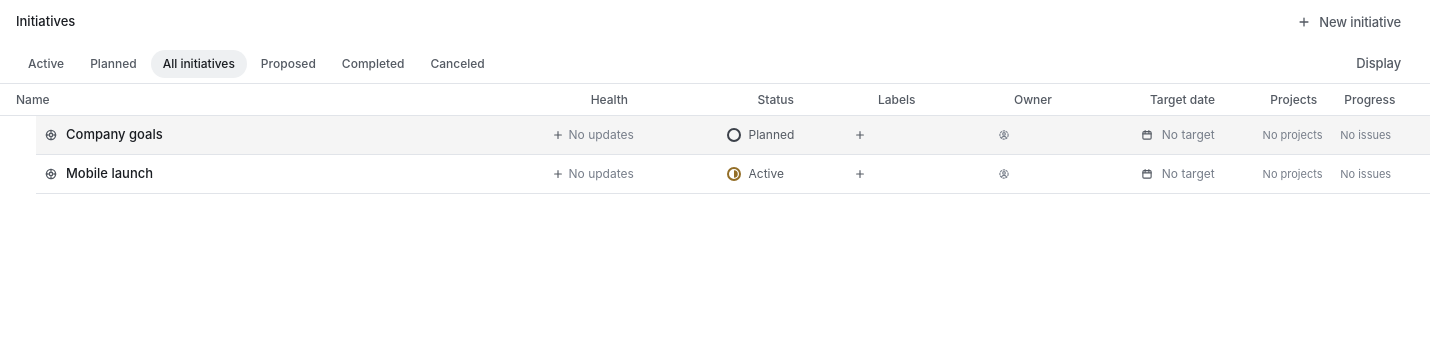
Scenario: an initiative row’s status › opens the picker from the row without opening the initiative
Click the button named "Planned".
click(734, 135)  # box [722, 124, 744, 146]
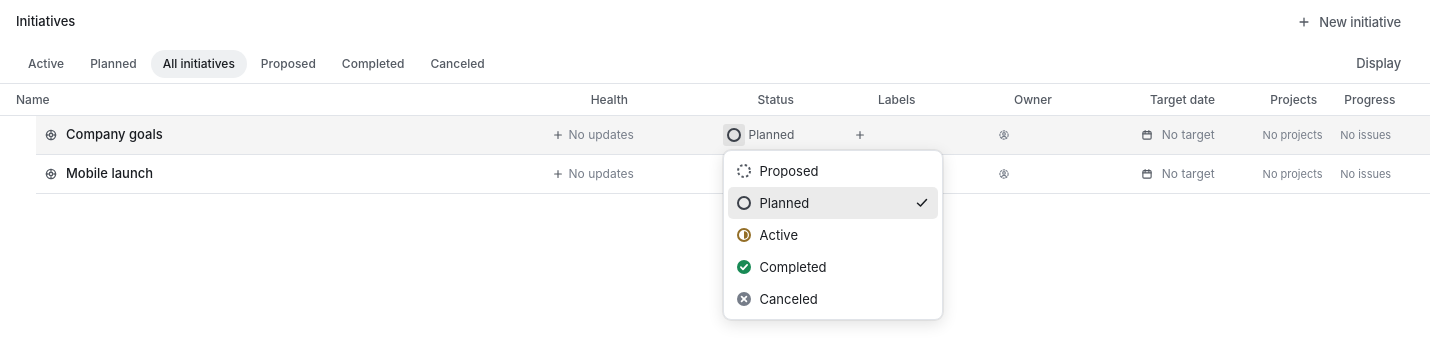
Expected: the link "Company goals" is shown, [36, 116, 1430, 155]
Expected: the menu named "Status" is shown, [728, 155, 938, 315]
